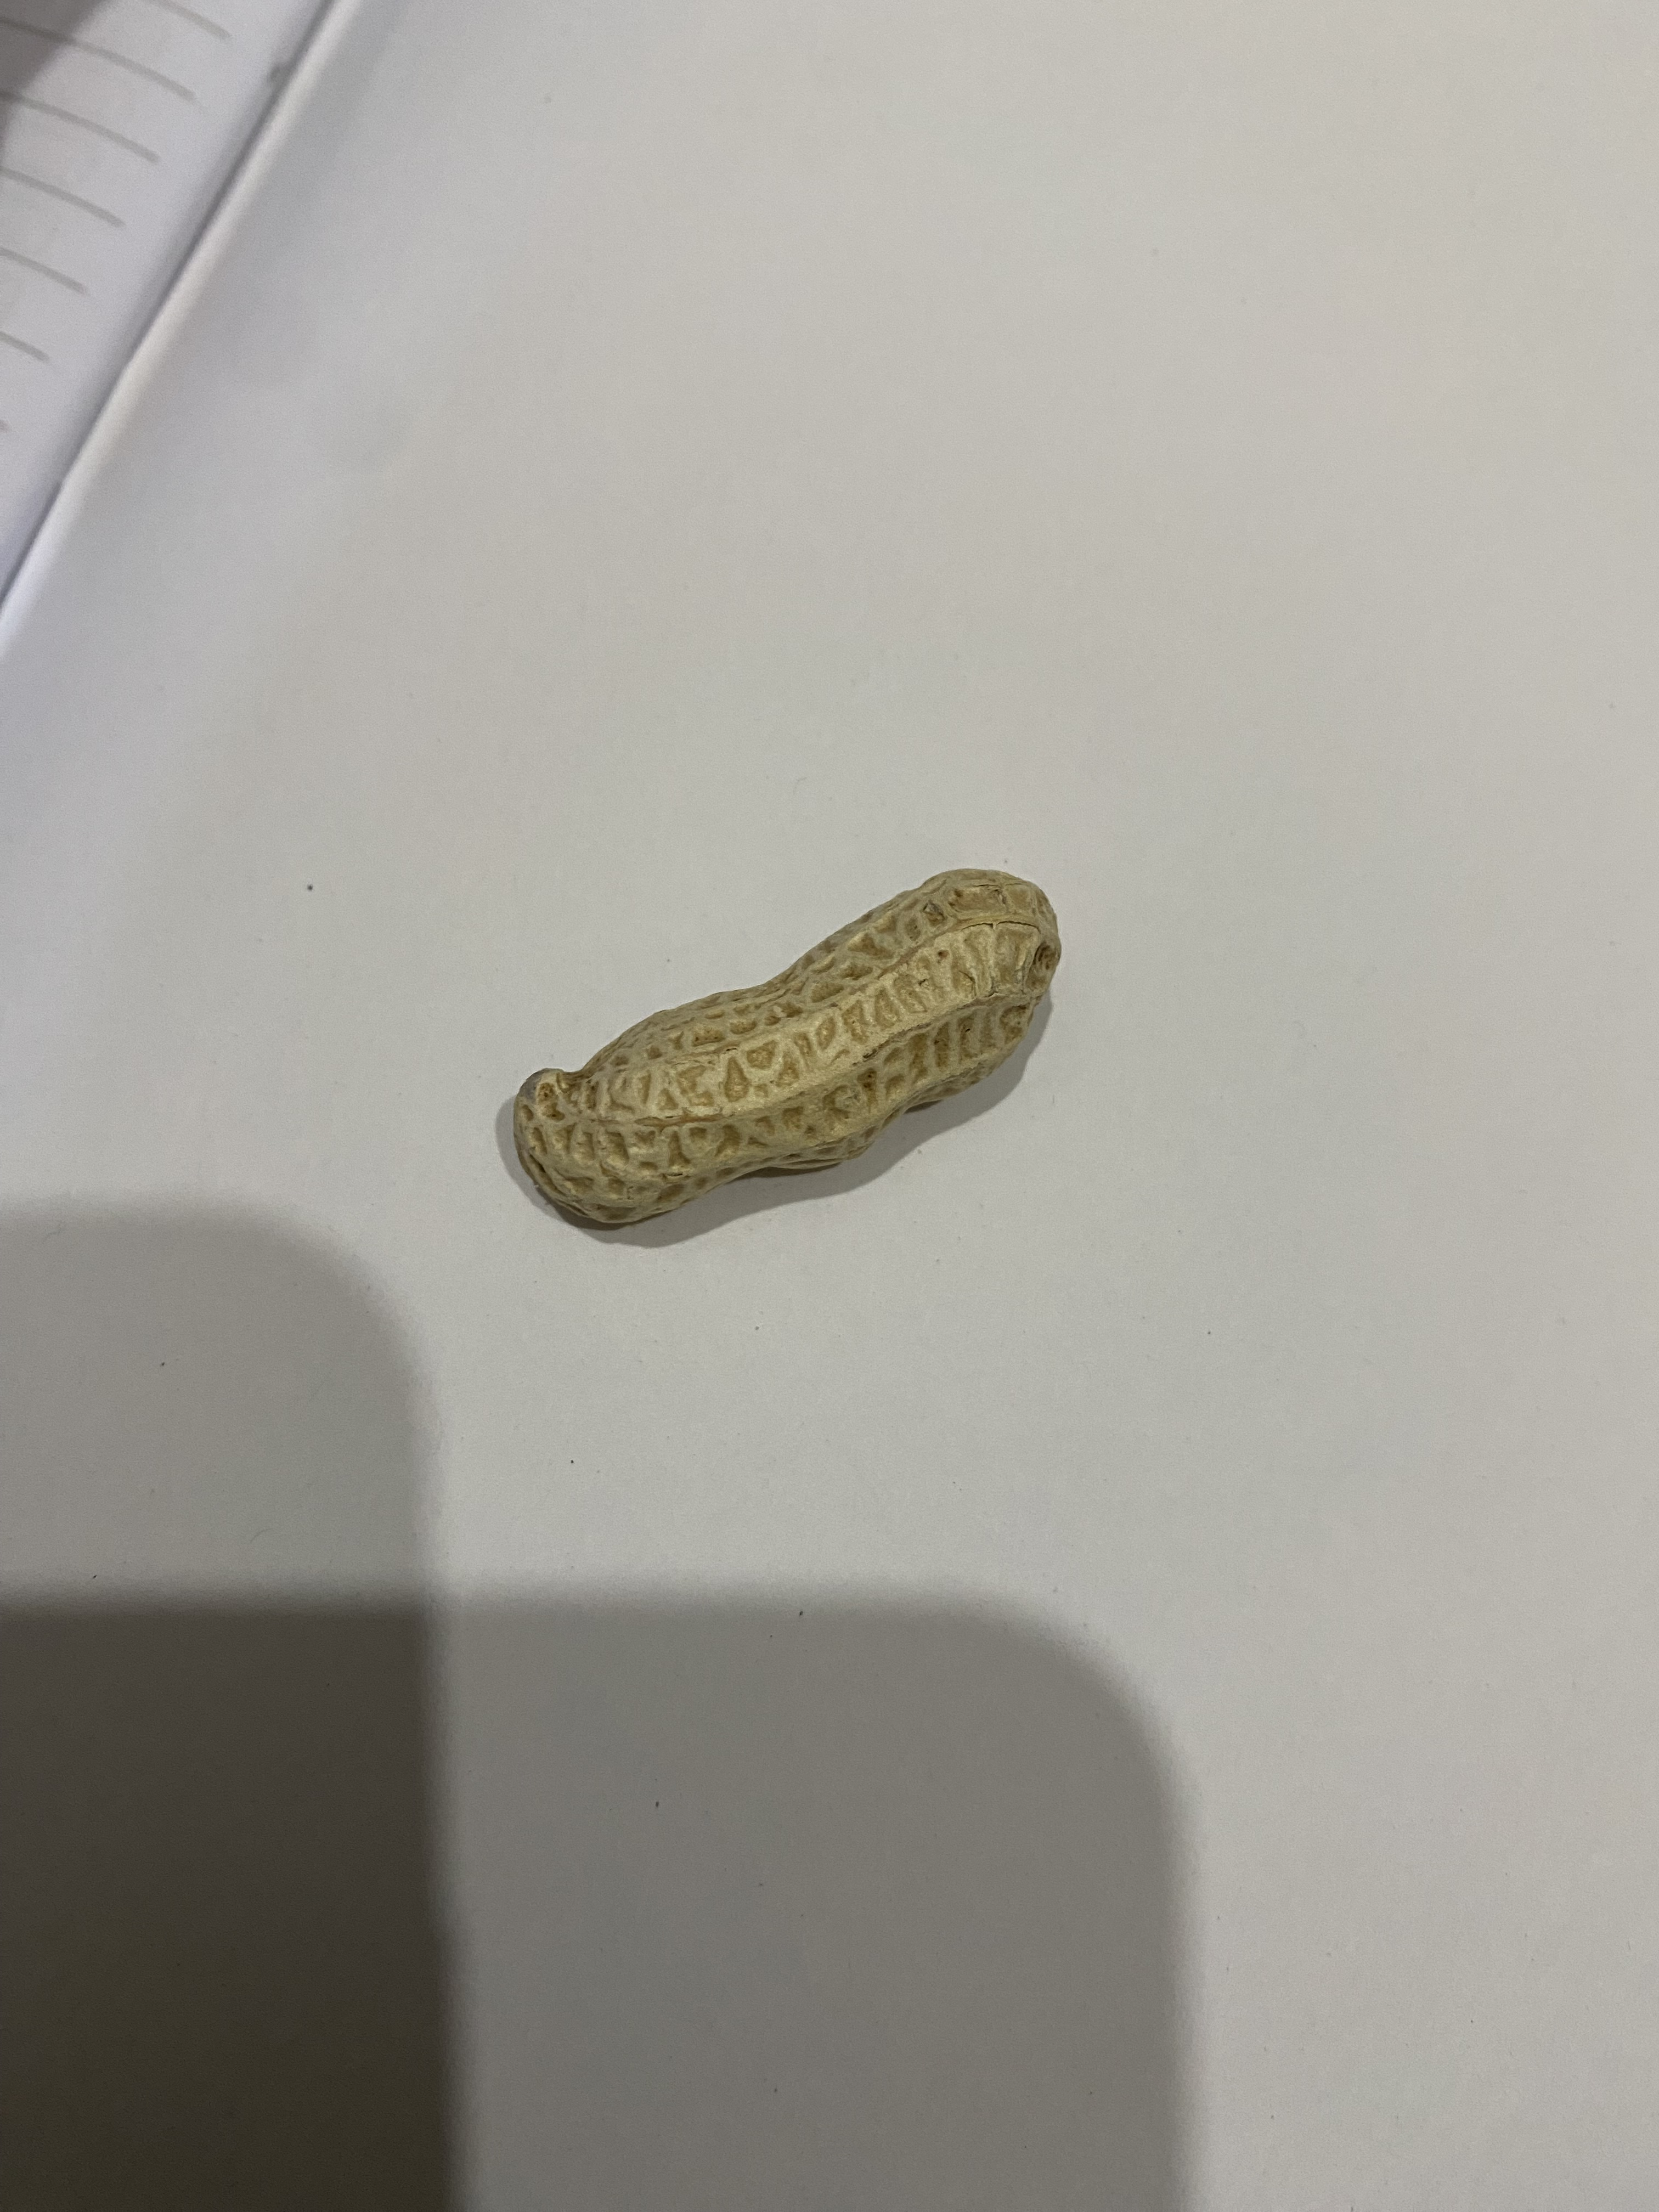kacang3: (460, 841, 1094, 1237)
